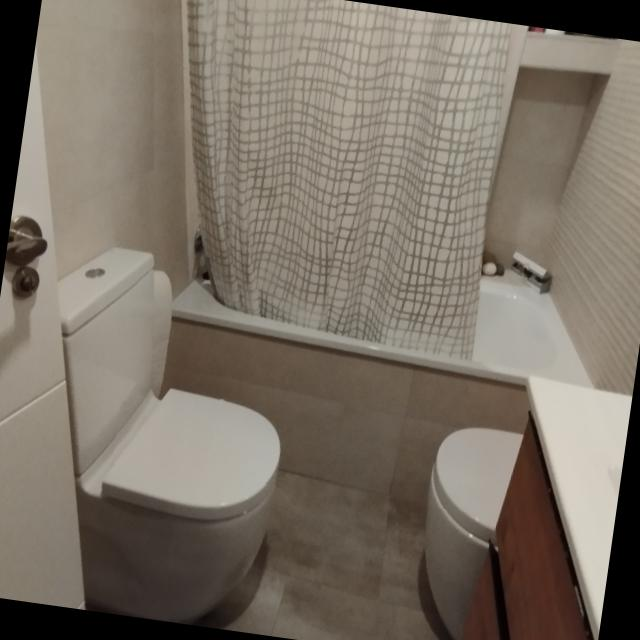bathtube: (163, 0, 594, 506)
table: (57, 248, 282, 626)
wardrobe: (468, 377, 632, 640)
